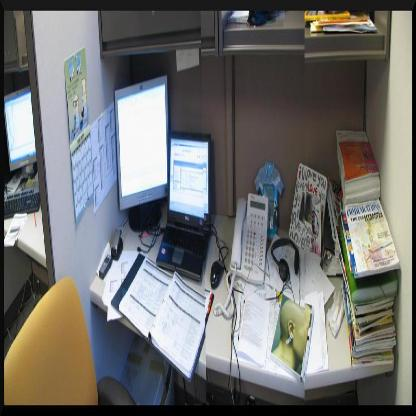board: (156, 131, 213, 282)
